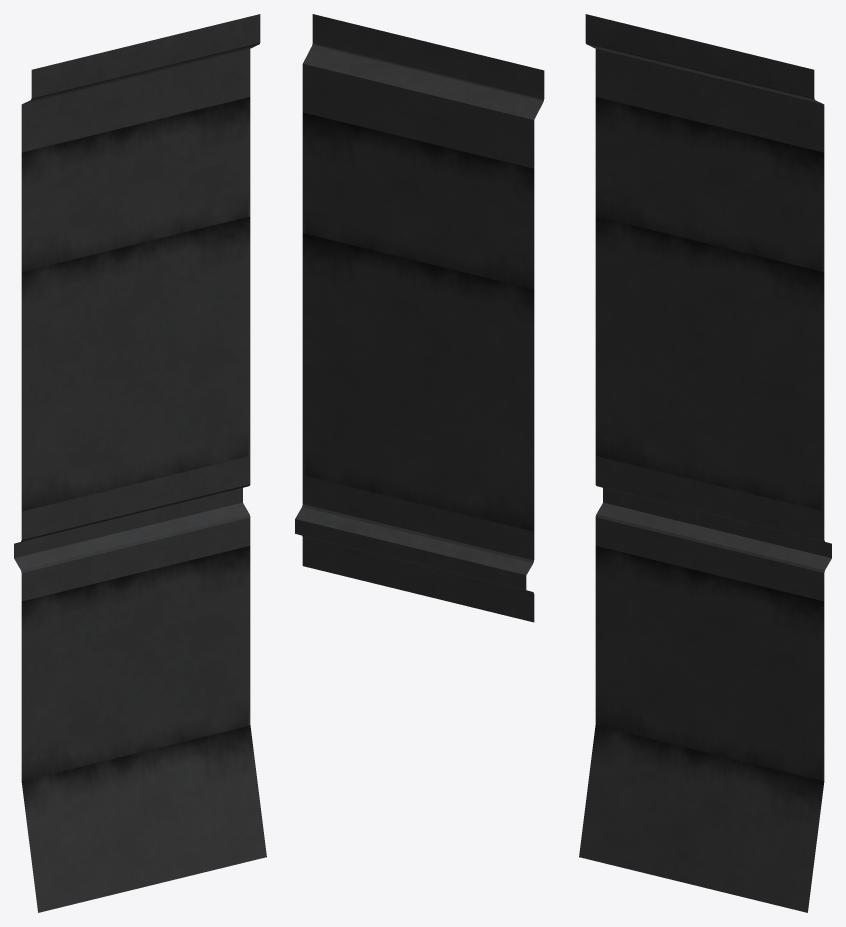
Rendered from M_Wall_Straight_4x14_v4.fbx.
3 views of the same model, side by side, from view 1: azimuth 30°, elevation 25°; view 2: azimuth 150°, elevation 25°; view 3: azimuth 330°, elevation 25° (orthographic).
Visible parts, largest first — view 1: Wall_Straight_4x14_v4; view 2: Wall_Straight_4x14_v4; view 3: Wall_Straight_4x14_v4.
Part boxes in pixels (left/top/right/bottom): Wall_Straight_4x14_v4: left=14, top=14, right=266, bottom=912; Wall_Straight_4x14_v4: left=295, top=14, right=544, bottom=622; Wall_Straight_4x14_v4: left=579, top=14, right=831, bottom=912.
Bounding box in the file's own units: 400 × 1400 × 73.02.
